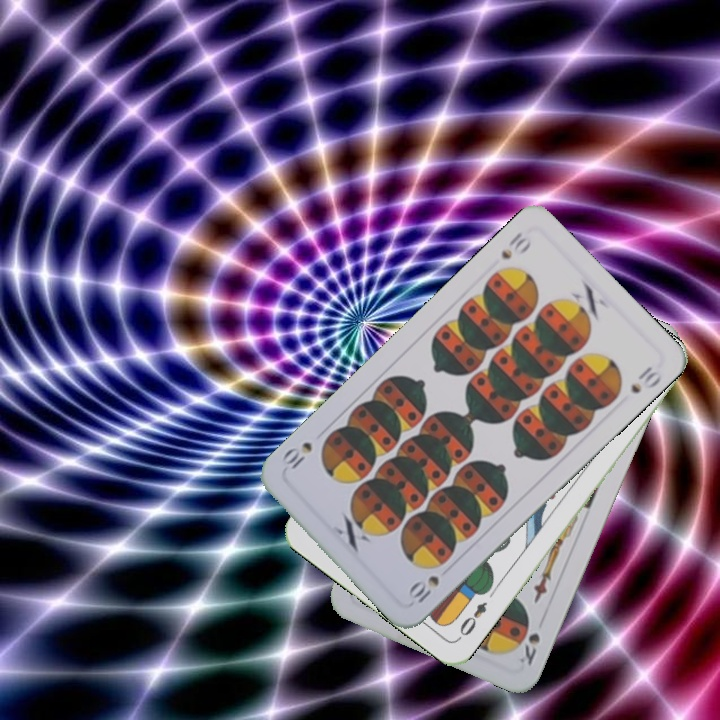EO: (454, 597, 490, 643)
S10: (497, 227, 534, 262), (406, 571, 442, 606)
SK: (514, 629, 543, 669)
